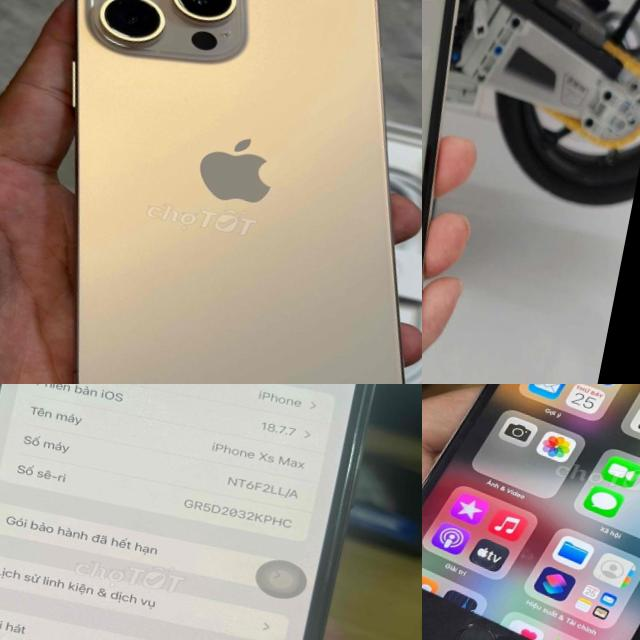gen_16: (71, 0, 404, 384)
gen_6: (422, 384, 640, 640)
gen_x_xs: (0, 384, 373, 640)
